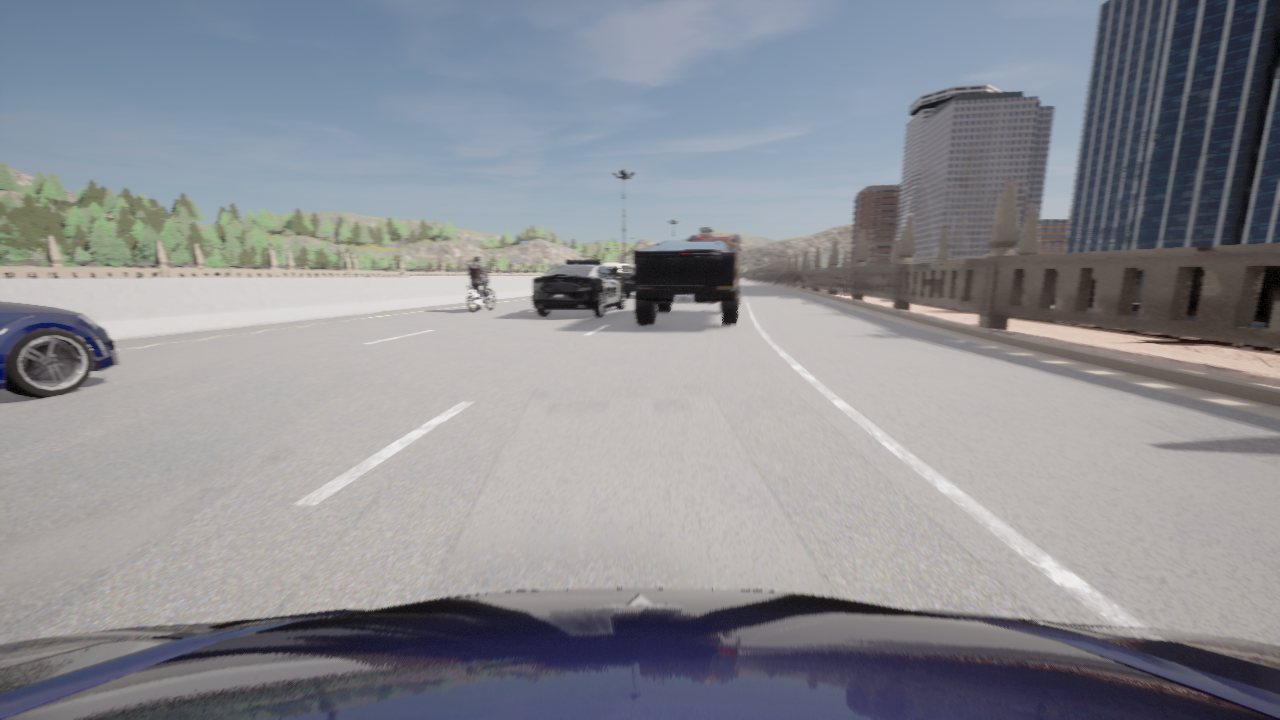cyclist: (0, 588, 1279, 719), (634, 240, 740, 325), (533, 260, 625, 316), (690, 227, 742, 281), (601, 262, 632, 285), (467, 287, 494, 311), (625, 269, 636, 297)
